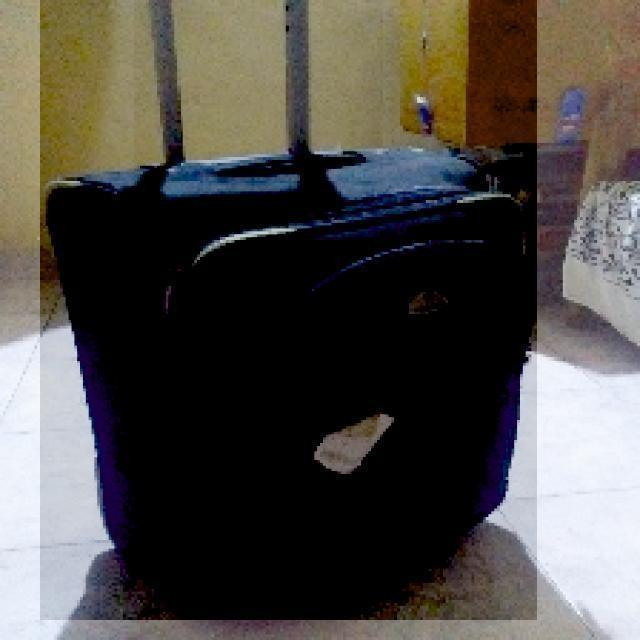Suitcase: (43, 0, 546, 605)
